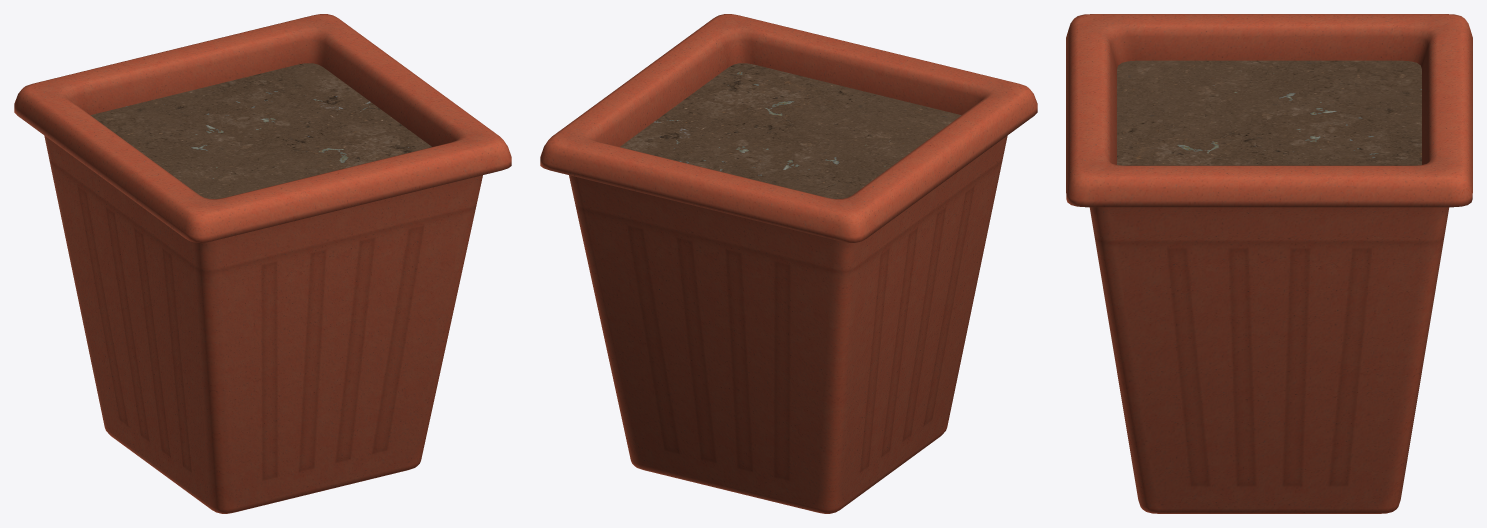
Rendered from GardenPot03_2.FBX.
3 views of the same model, side by side, from view 1: azimuth 30°, elevation 25°; view 2: azimuth 150°, elevation 25°; view 3: azimuth 270°, elevation 25° (orthographic). The views are drawn at different scales.
Parts seen in each view (by area): view 1: GardenPot03_2; view 2: GardenPot03_2; view 3: GardenPot03_2.
Boxes of the visible parts, <box> form: GardenPot03_2: <box>14,14,511,513</box>; GardenPot03_2: <box>540,14,1037,513</box>; GardenPot03_2: <box>1066,14,1472,513</box>.
Size of what is drawn, in the model's own units: 0.4276 by 0.4258 by 0.4276.
